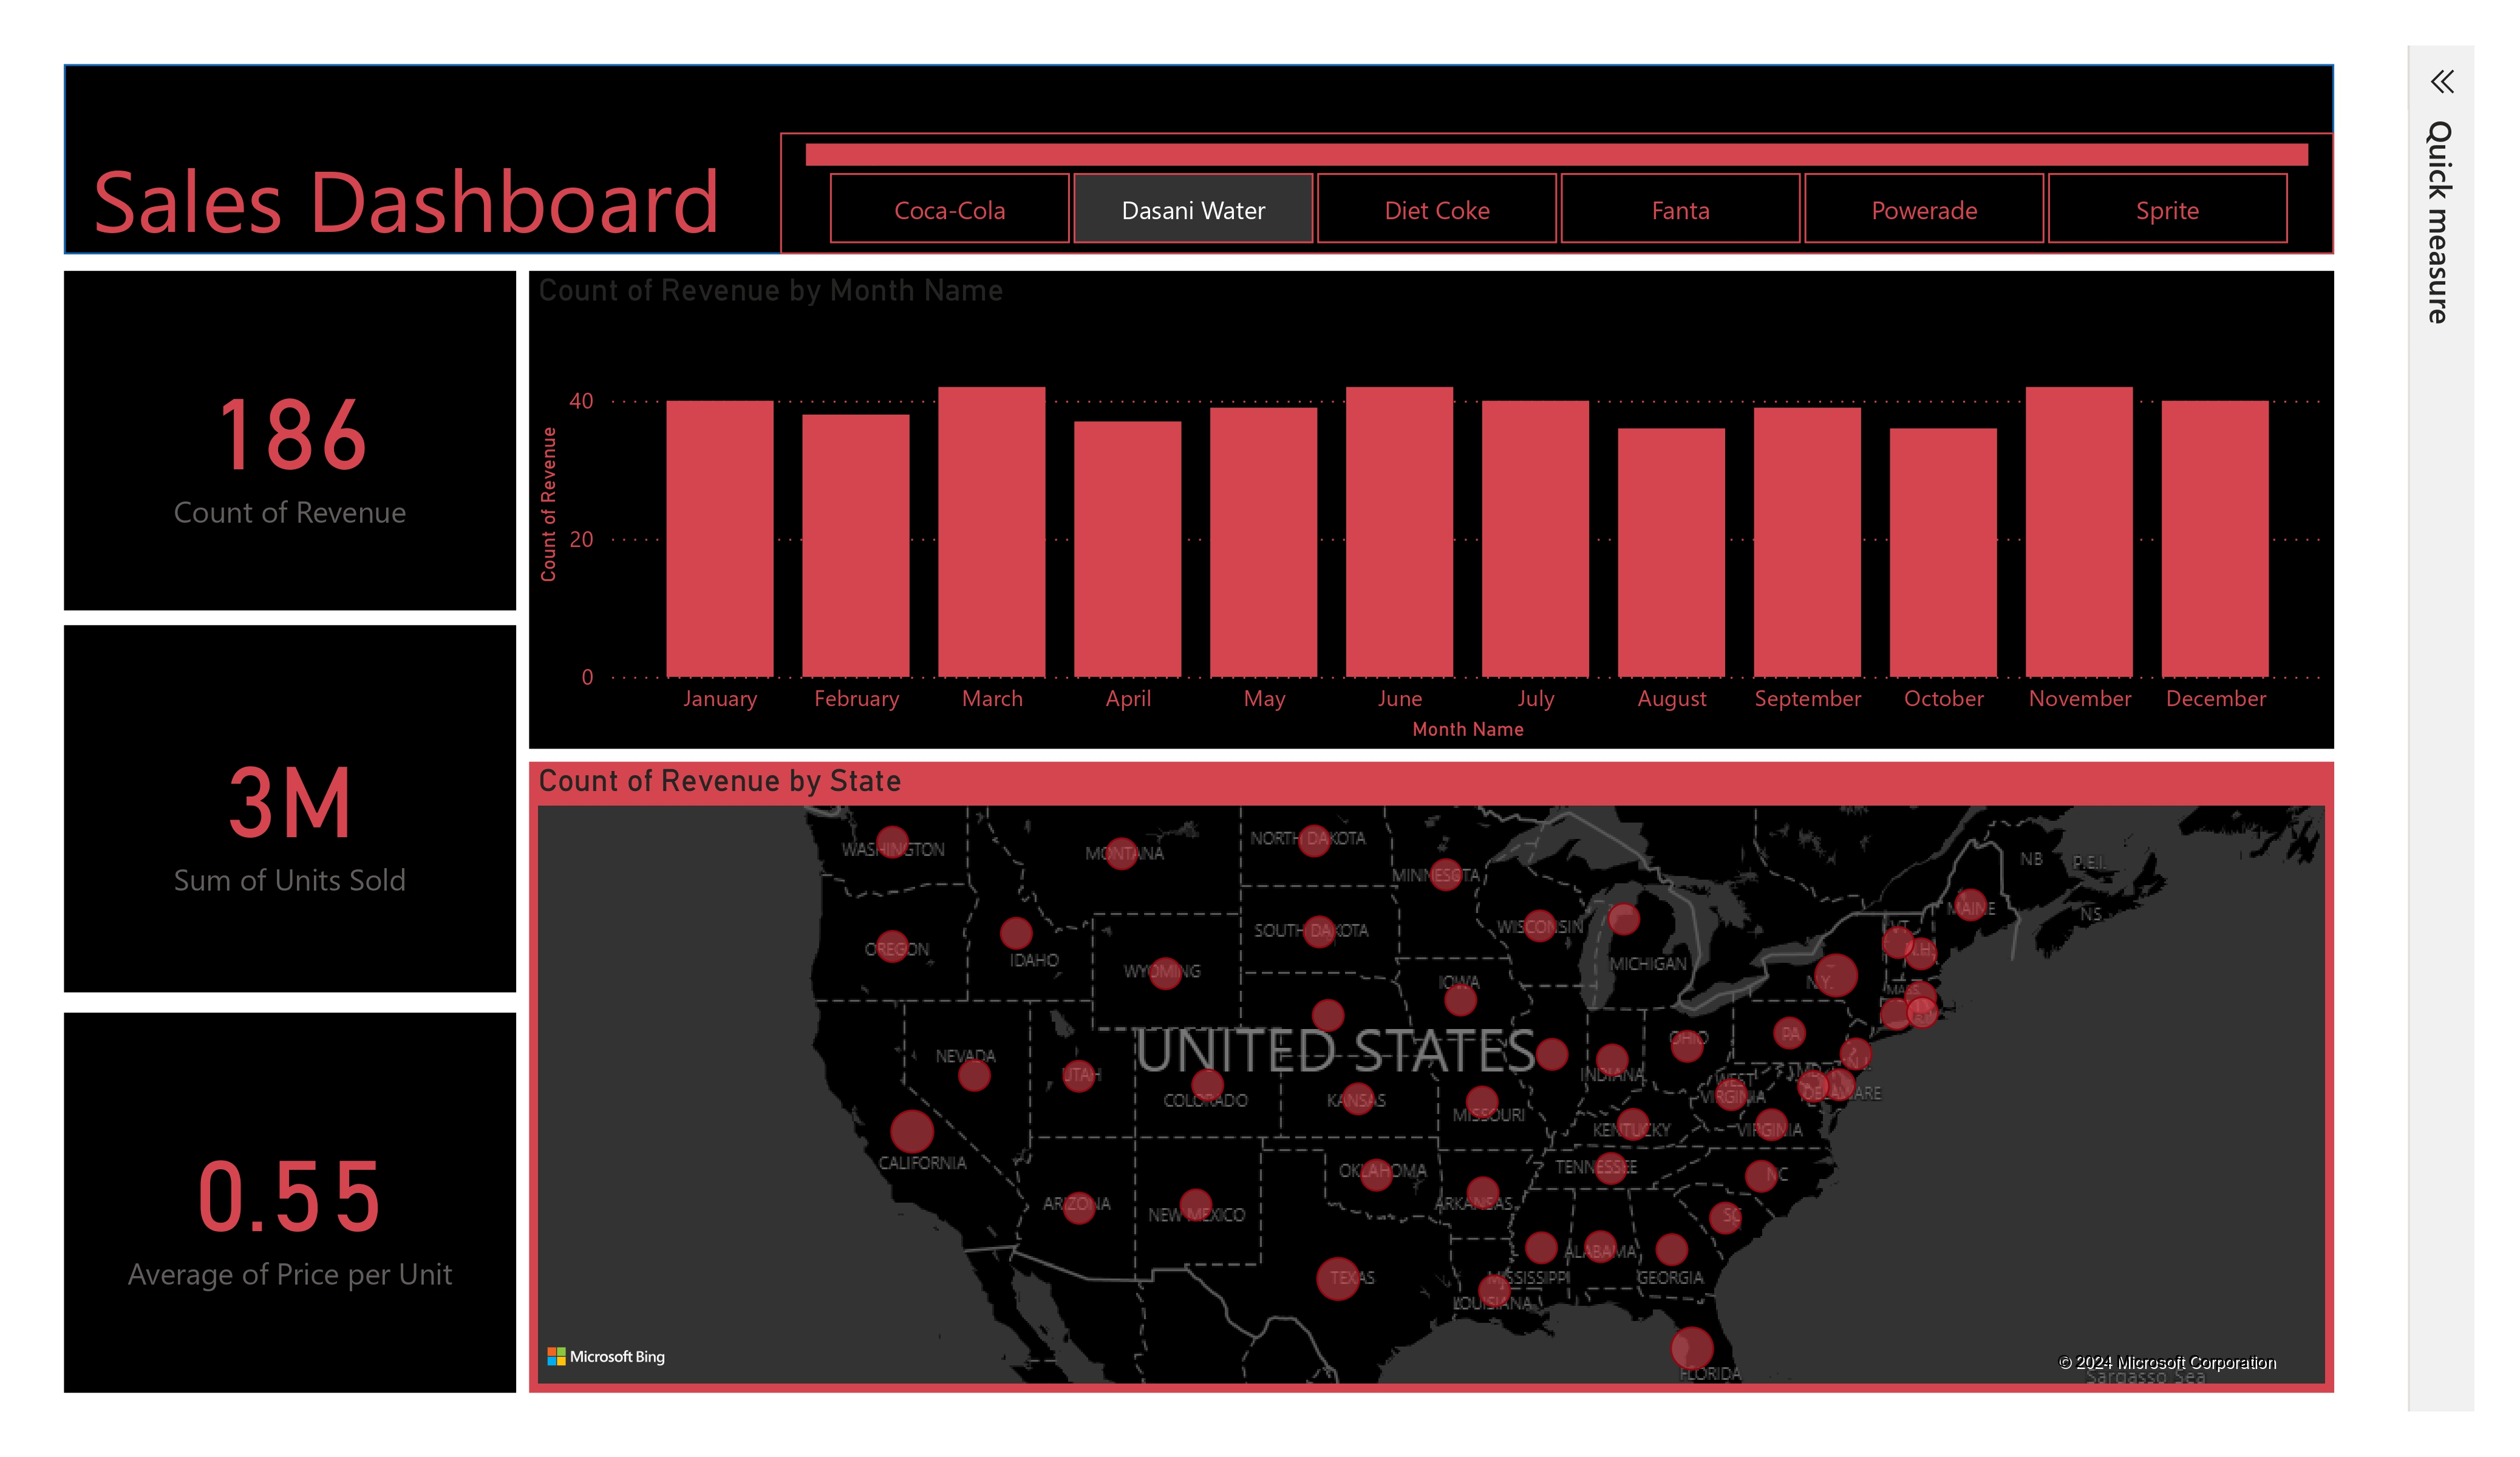

The page's visual inventory and layout, read from the dashboard file:
{"tool":"powerbi","page":{"name":"Page 1","canvas":[1280,720],"ordinal":0},"visuals":[{"type":"shape","box":[10,0,1230,102.9],"z":0},{"type":"card","fields":{"Values":["Count(Data.Revenue)"]},"box":[10,111.9,244.8,183.9],"z":1000},{"type":"card","fields":{"Values":["Avg(Data.Price per Unit)"]},"box":[10,513.6,244.8,206.8],"z":2000},{"type":"card","fields":{"Values":["Sum(Data.Units Sold)"]},"box":[10,303.8,244.8,198.8],"z":3000},{"type":"columnChart","fields":{"Category":["Data.Month Name"],"Y":["Count(Data.Revenue)"]},"box":[261.8,111.9,978.2,258.8],"z":4000},{"type":"map","fields":{"Category":["Data.State"],"Size":["CountNonNull(Data.Revenue)"]},"box":[261.8,377.7,978.2,342.7],"z":5000},{"type":"slicer","fields":{"Values":["Data.Beverage Brand"]},"box":[397.7,37,842.3,65.9],"z":6000}]}

Visuals, with their boxes on the page's 1280x720 design canvas (x1, y1, x2, y2). These are canvas units, not pixel positions in the 2520x1457 screenshot, which may show the page scaled, cropped or inside an application window:
shape: (10,0,1240,103)
card - Count(Data.Revenue): (10,112,255,296)
card - Avg(Data.Price per Unit): (10,514,255,720)
card - Sum(Data.Units Sold): (10,304,255,503)
columnChart - Data.Month Name x Count(Data.Revenue): (262,112,1240,371)
map - Data.State x CountNonNull(Data.Revenue): (262,378,1240,720)
slicer - Data.Beverage Brand: (398,37,1240,103)
